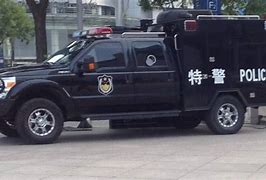specialcar: (6, 12, 265, 143)
